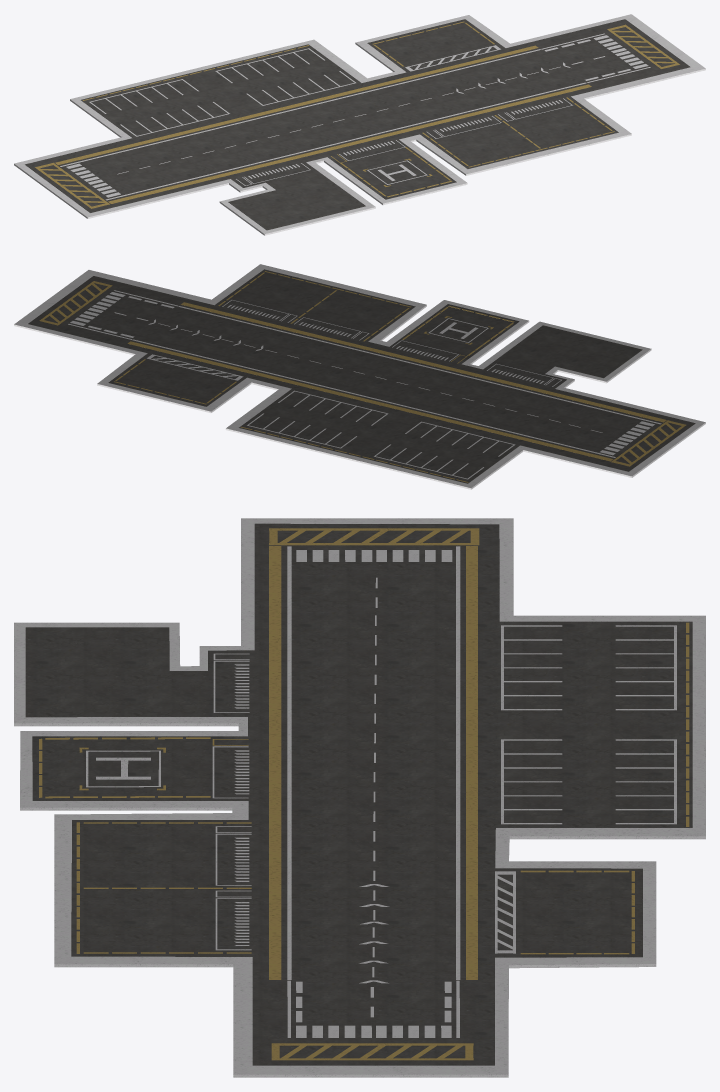
The model's file is airport.obj.
3 renders of one model, top to bottom at view 1: azimuth 30°, elevation 25°; view 2: azimuth 150°, elevation 25°; view 3: azimuth 270°, elevation 25°, orthographic. The views are drawn at different scales.
Visible parts, largest first — view 1: obj34, obj33, obj22, obj21, obj27, obj18, obj17, obj12, obj11, obj40, obj26, obj35 (+1 smaller); view 2: obj34, obj33, obj22, obj21, obj27, obj18, obj17, obj12, obj11, obj40, obj26, obj35 (+1 smaller); view 3: obj34, obj33, obj22, obj21, obj27, obj12, obj17, obj18, obj11, obj40, obj35, obj26 (+7 smaller).
Part boxes in pixels (x1,y1,x2,y2): obj34: (25,19,690,230); obj33: (14,14,705,235); obj22: (108,84,591,203); obj21: (55,45,538,164); obj27: (541,33,650,82); obj18: (105,82,586,200); obj17: (60,49,540,166); obj12: (35,162,109,208); obj11: (607,24,679,68); obj40: (248,100,562,178); obj26: (66,163,120,197); obj35: (422,97,614,167); obj34: (28,269,695,483); obj33: (14,264,705,489); obj22: (181,302,666,422); obj21: (127,341,613,461); obj27: (68,290,177,339); obj18: (178,306,661,424); obj17: (132,339,615,457); obj12: (611,420,686,466); obj11: (39,281,112,325); obj40: (227,304,543,383); obj26: (600,421,654,455); obj35: (218,271,411,341); obj34: (25,523,692,1065); obj33: (14,518,705,1077); obj22: (269,546,281,979); obj21: (466,546,477,979); obj27: (287,980,459,1037); obj12: (269,528,479,545); obj17: (456,546,460,979); obj18: (287,546,291,979); obj11: (271,1043,473,1060); obj40: (234,664,249,945); obj35: (76,822,251,953); obj26: (296,550,452,561).
Bounding box in the file's own units: 3000 × 11.1 × 1577.
3 materials, 3 textured.
